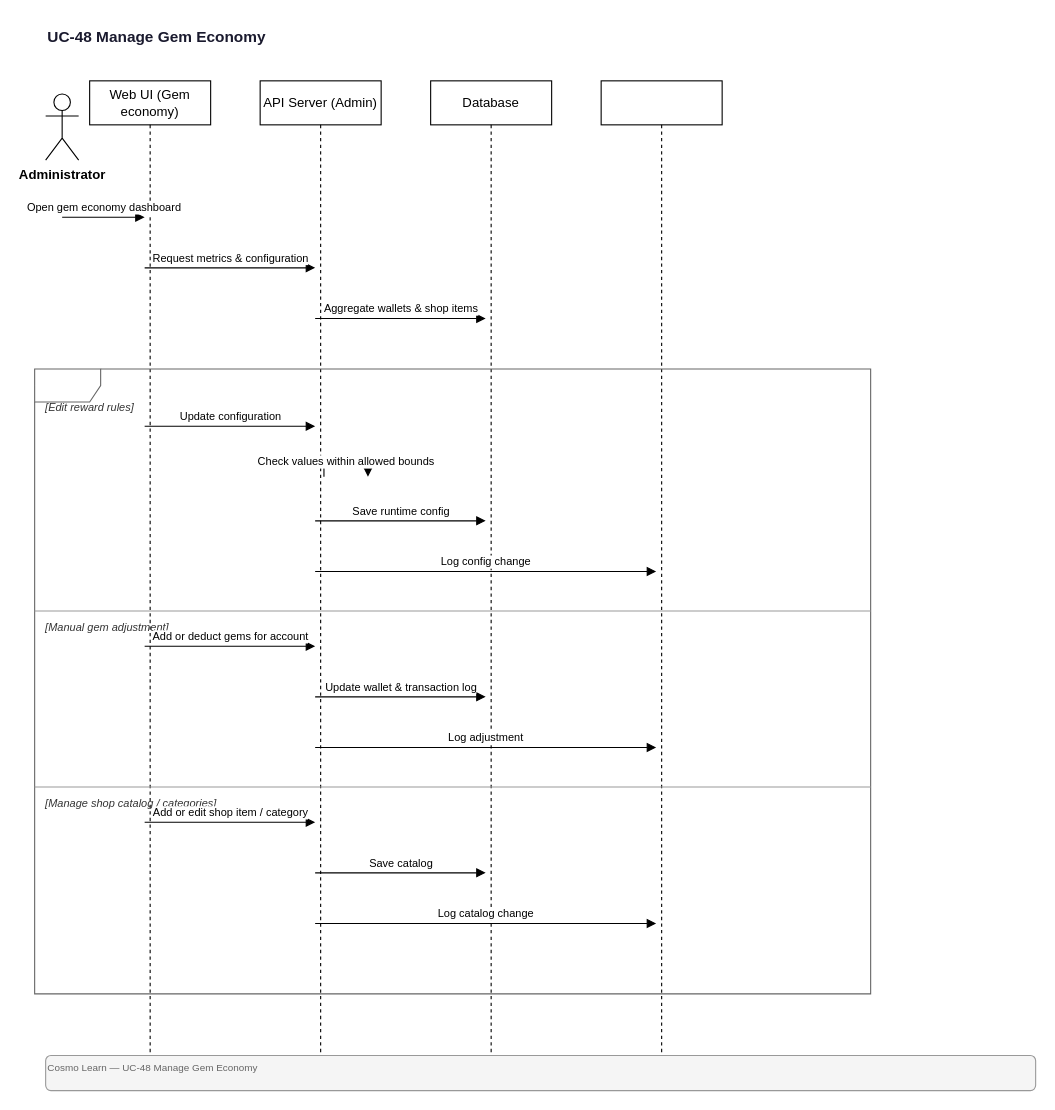
This 1055x1110 diagram has some shape labels left out. The box of each missing label's shape, as (x1, y1, x2, y2) in pixels:
alt: (34, 368, 871, 994)
Gem economy audit log: (600, 80, 722, 1058)
